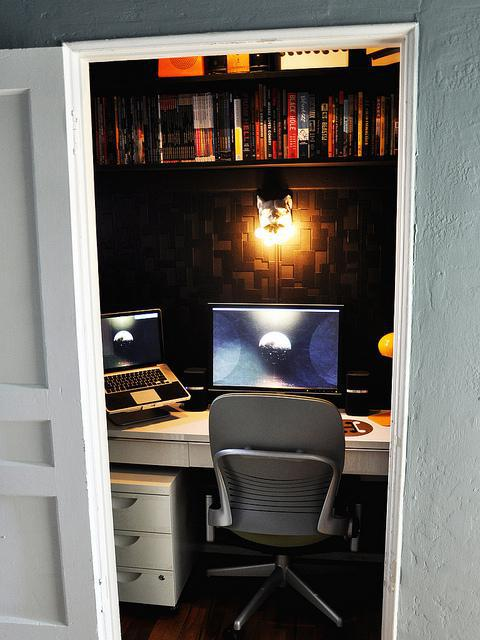tv: (208, 303, 336, 405), (101, 318, 184, 410)
